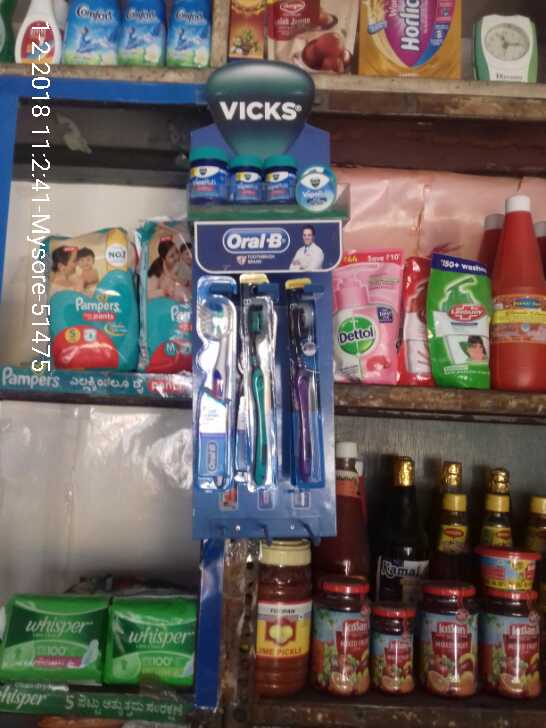pharmacy: (38, 231, 140, 379), (180, 145, 344, 218), (281, 295, 330, 492), (8, 595, 106, 684), (195, 295, 239, 488), (109, 592, 194, 688), (145, 219, 197, 374), (241, 292, 281, 482)
